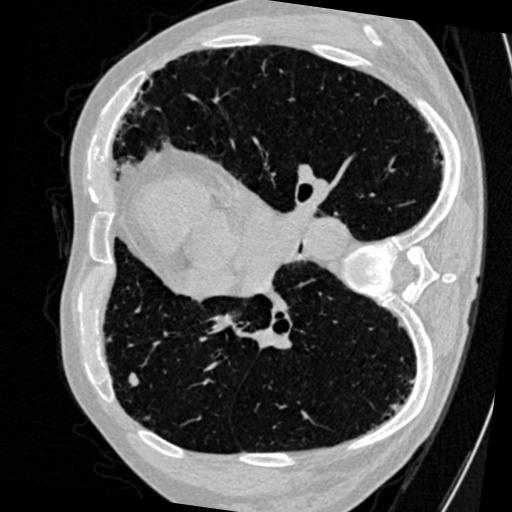nodule: (125, 372, 143, 390)
